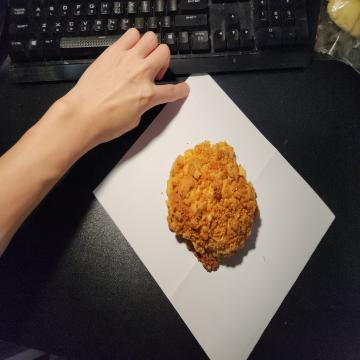soboru_bread: (164, 141, 259, 273)
